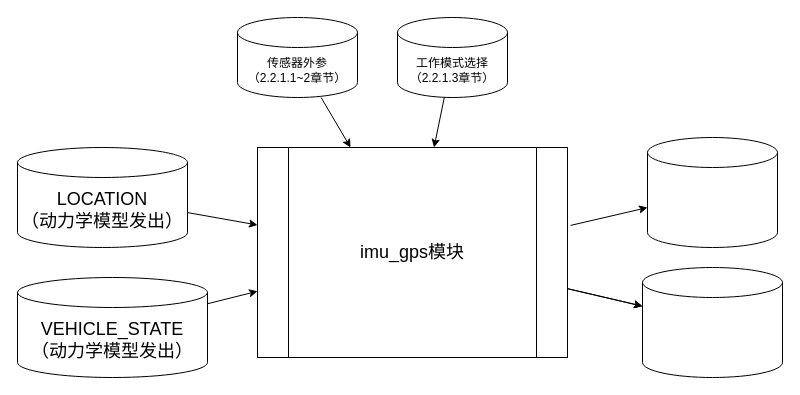
The diagram is 800 pixels wide and 395 high, and some of its shapes have lost their labels. Here are the shapes that lost their labels. From the top down, the centre of each, then its label:
point 712,192: IMU_SIM （算法订阅）
point 712,322: GPS_SIM （算法订阅）
